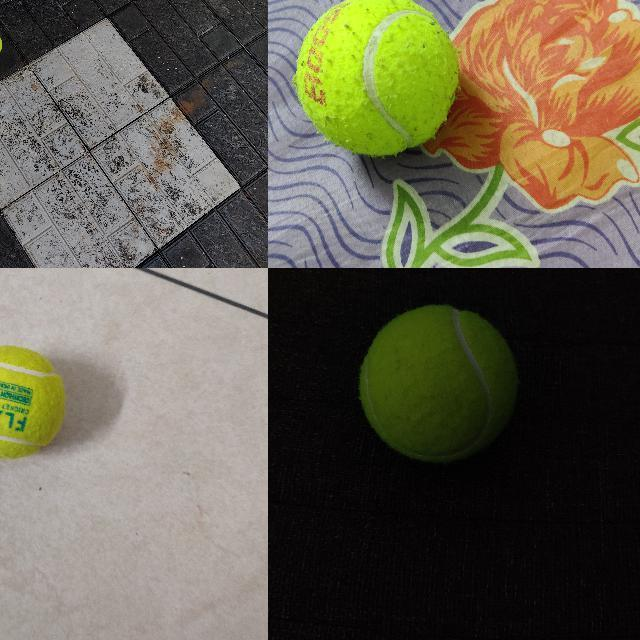tennis-ball: (295, 0, 459, 158), (358, 305, 519, 462), (0, 345, 66, 459)
